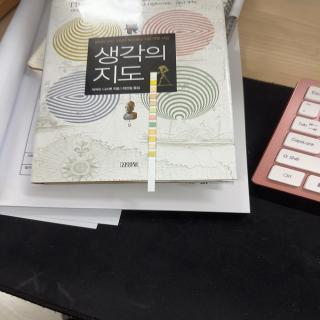mark: (149, 151, 156, 157), (150, 129, 156, 135), (149, 144, 156, 149), (150, 115, 156, 120), (150, 108, 156, 113), (150, 101, 156, 106), (150, 94, 156, 99), (150, 80, 156, 85), (149, 137, 156, 141), (151, 87, 156, 92), (150, 123, 156, 127), (151, 74, 157, 78)
